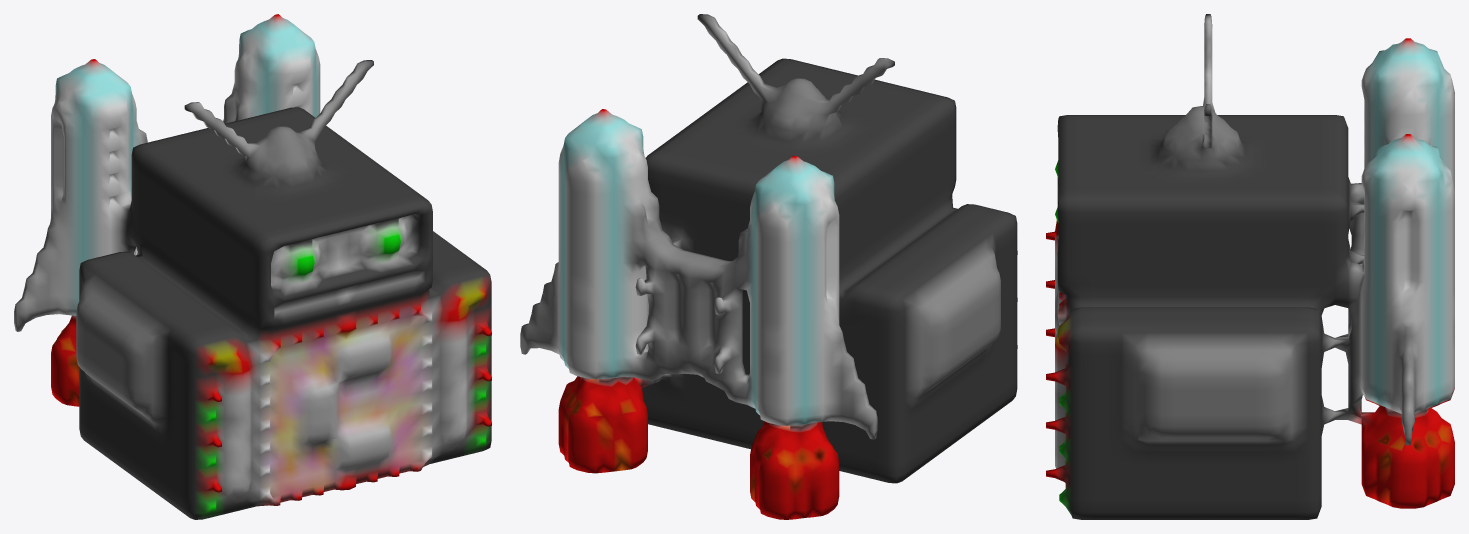
3 renders of one model, left to right at view 1: azimuth 30°, elevation 25°; view 2: azimuth 150°, elevation 25°; view 3: azimuth 270°, elevation 25°, orthographic. The views are drawn at different scales.
Bounding box in the file's own units: 1.6 × 1.59 × 1.53.
